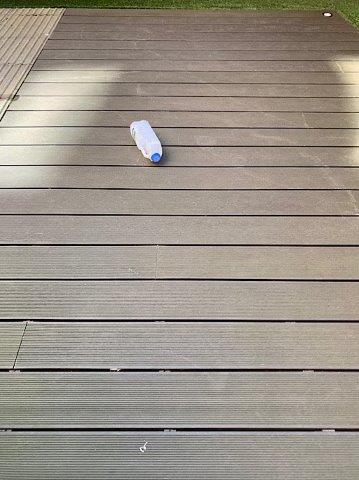botolplastik: (130, 121, 161, 162)
